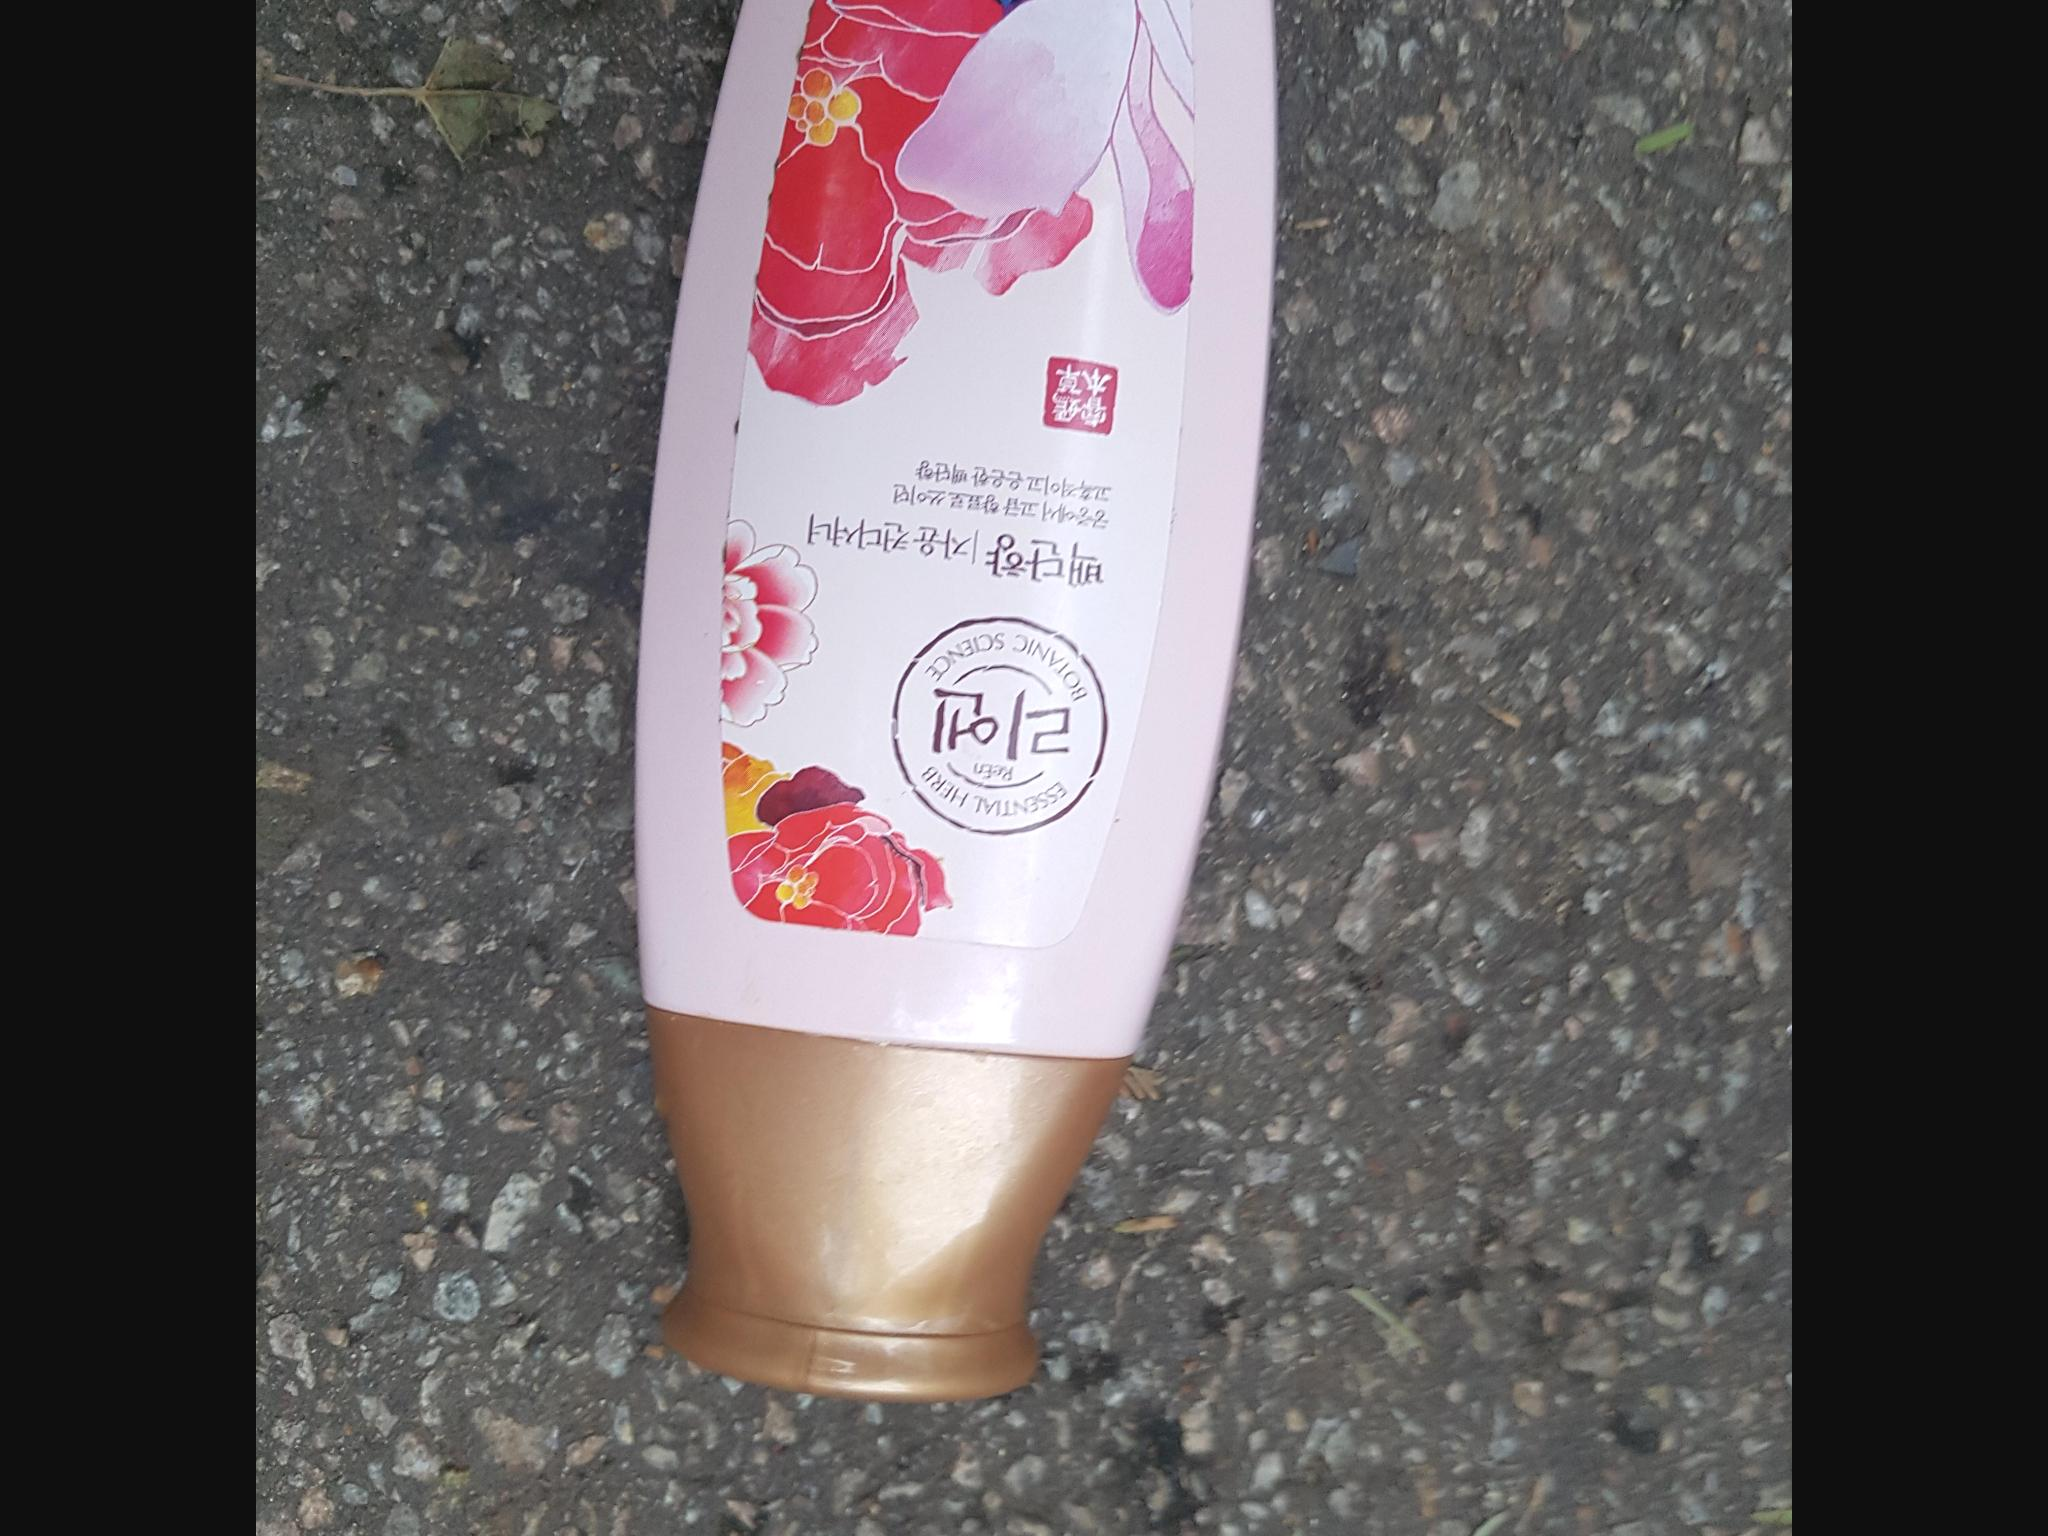bottle: (619, 0, 1279, 1425)
